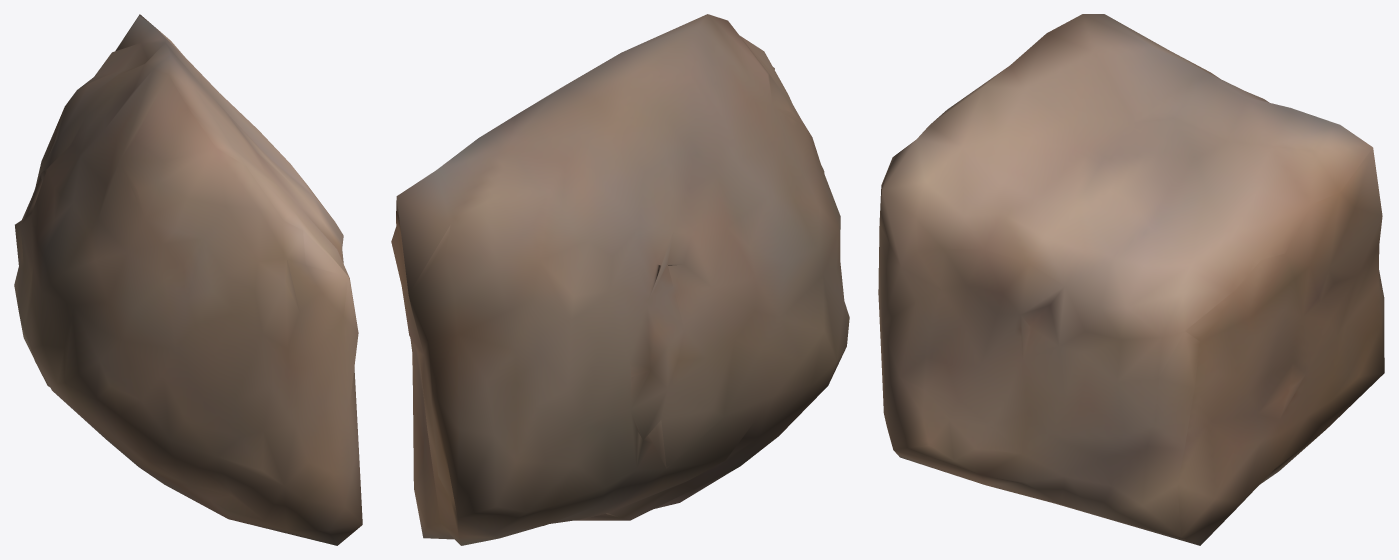
Rendered from cut_marble.glb.
3 views of the same model, side by side, from view 1: azimuth 30°, elevation 25°; view 2: azimuth 150°, elevation 25°; view 3: azimuth 270°, elevation 25° (orthographic). The views are drawn at different scales.
Parts seen in each view (by area): view 1: model; view 2: model; view 3: model.
Part boxes in pixels (x1,y1,x2,y2): model: [14, 14, 362, 545]; model: [391, 14, 849, 545]; model: [878, 14, 1384, 545].
Bounding box in the file's own units: 0.2742 × 0.383 × 0.3961.
1 material, 1 textured.
